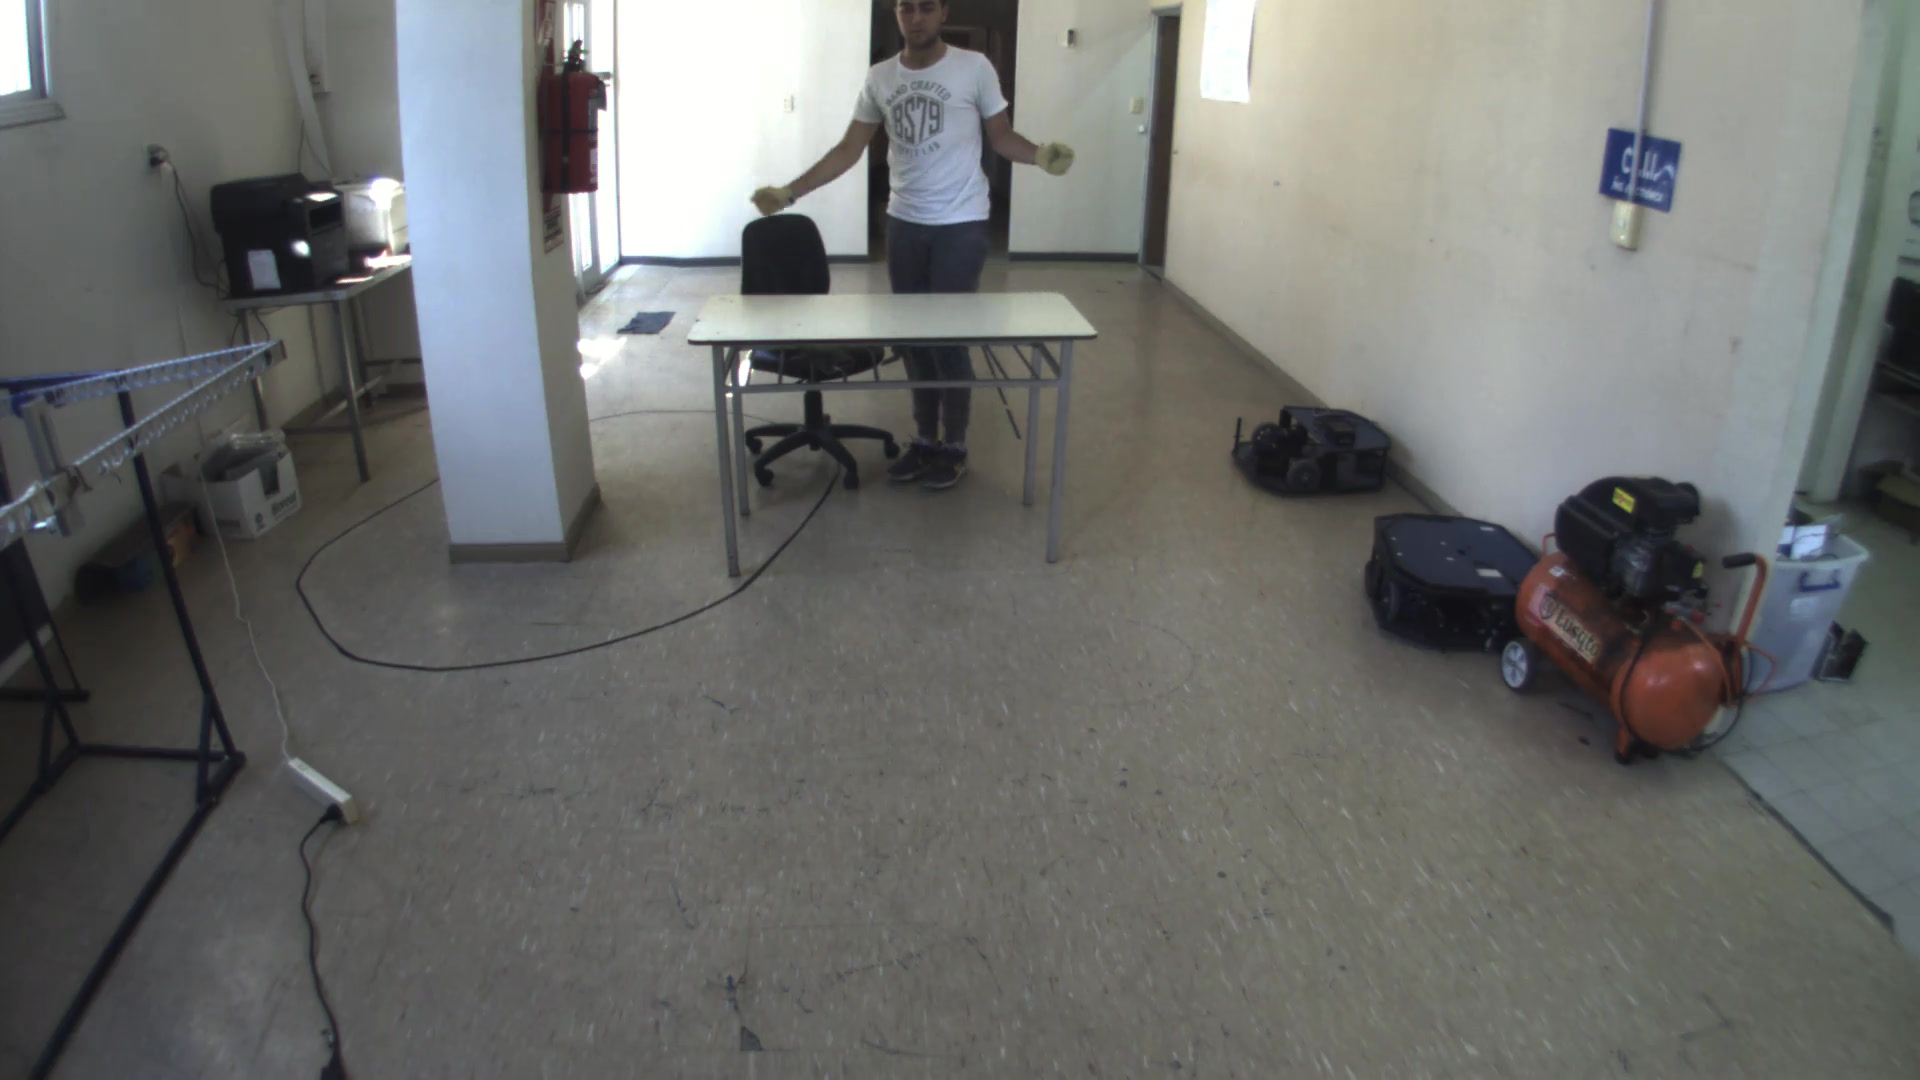hand: (741, 171, 804, 227), (1027, 127, 1083, 187)
